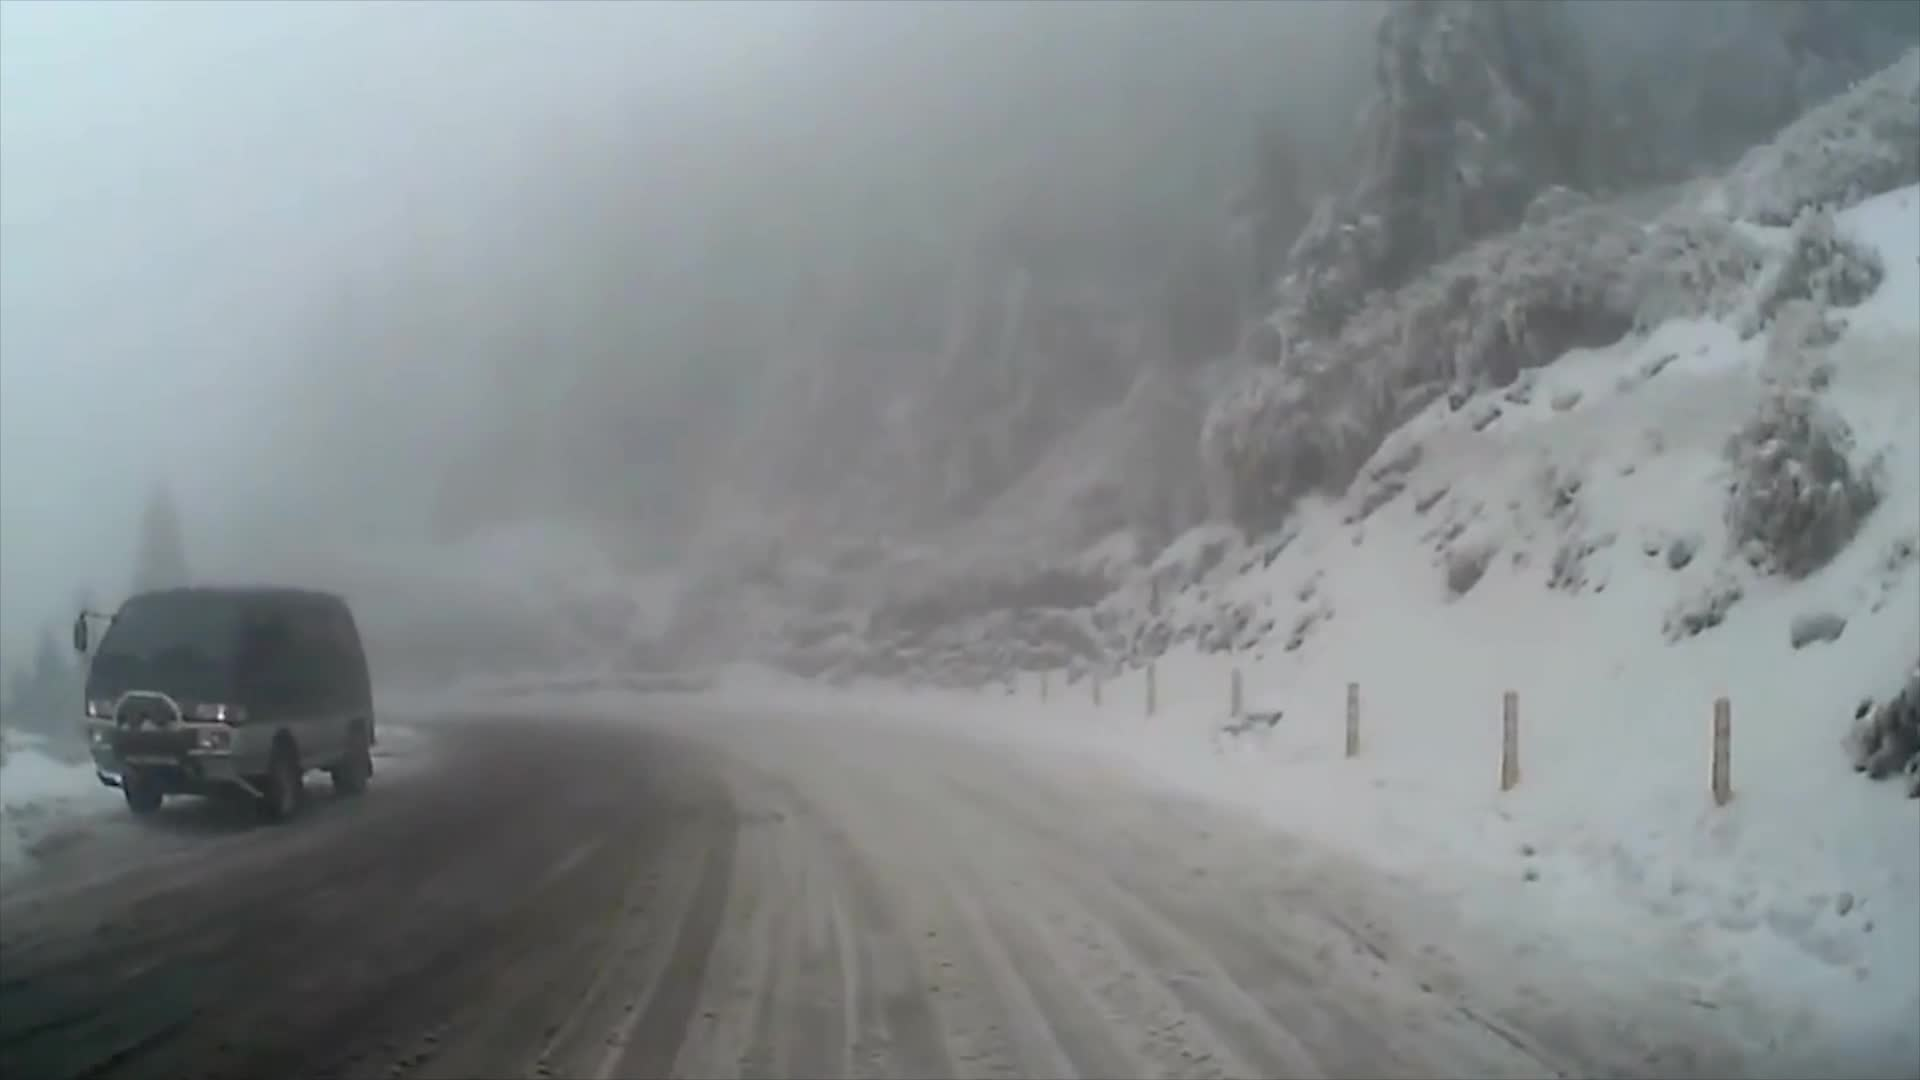vehicle: (69, 585, 375, 825)
